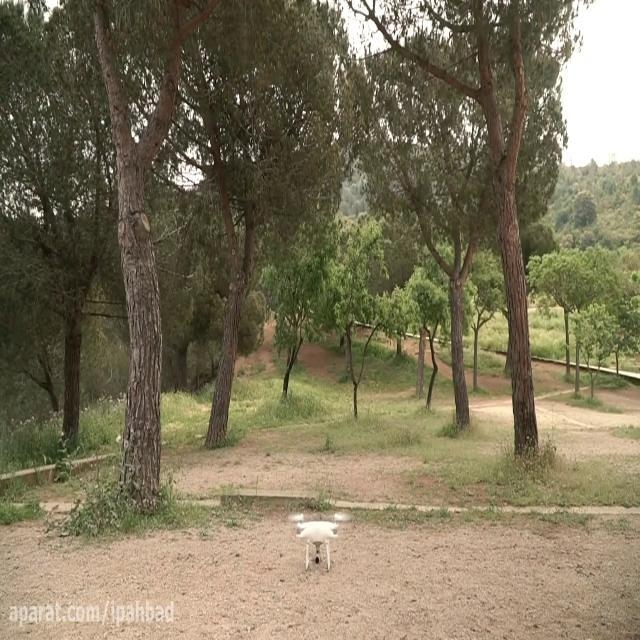drone: (288, 508, 350, 572)
